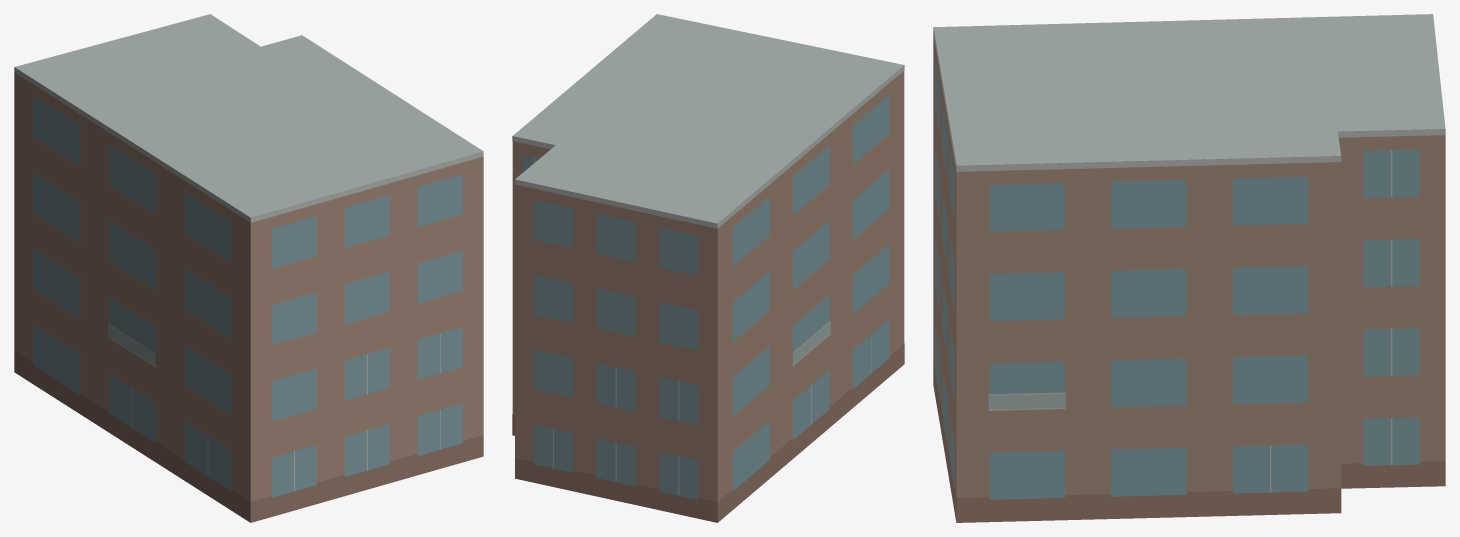
The model's file is survey-upis-32965463.glb.
The picture shows the model from 3 angles, left to right: view 1: azimuth 30°, elevation 25°; view 2: azimuth 150°, elevation 25°; view 3: azimuth 270°, elevation 25°; orthographic projection. The views are drawn at different scales.
Parts seen in each view (by area): view 1: survey-upis-32965463.tmp; view 2: survey-upis-32965463.tmp; view 3: survey-upis-32965463.tmp.
Boxes of the visible parts, x1,y1,x2,y2 form: survey-upis-32965463.tmp: (14, 14, 483, 522); survey-upis-32965463.tmp: (512, 14, 904, 522); survey-upis-32965463.tmp: (933, 14, 1445, 522).
Size of the model in its own units: 12.9 by 14.15 by 18.4.
